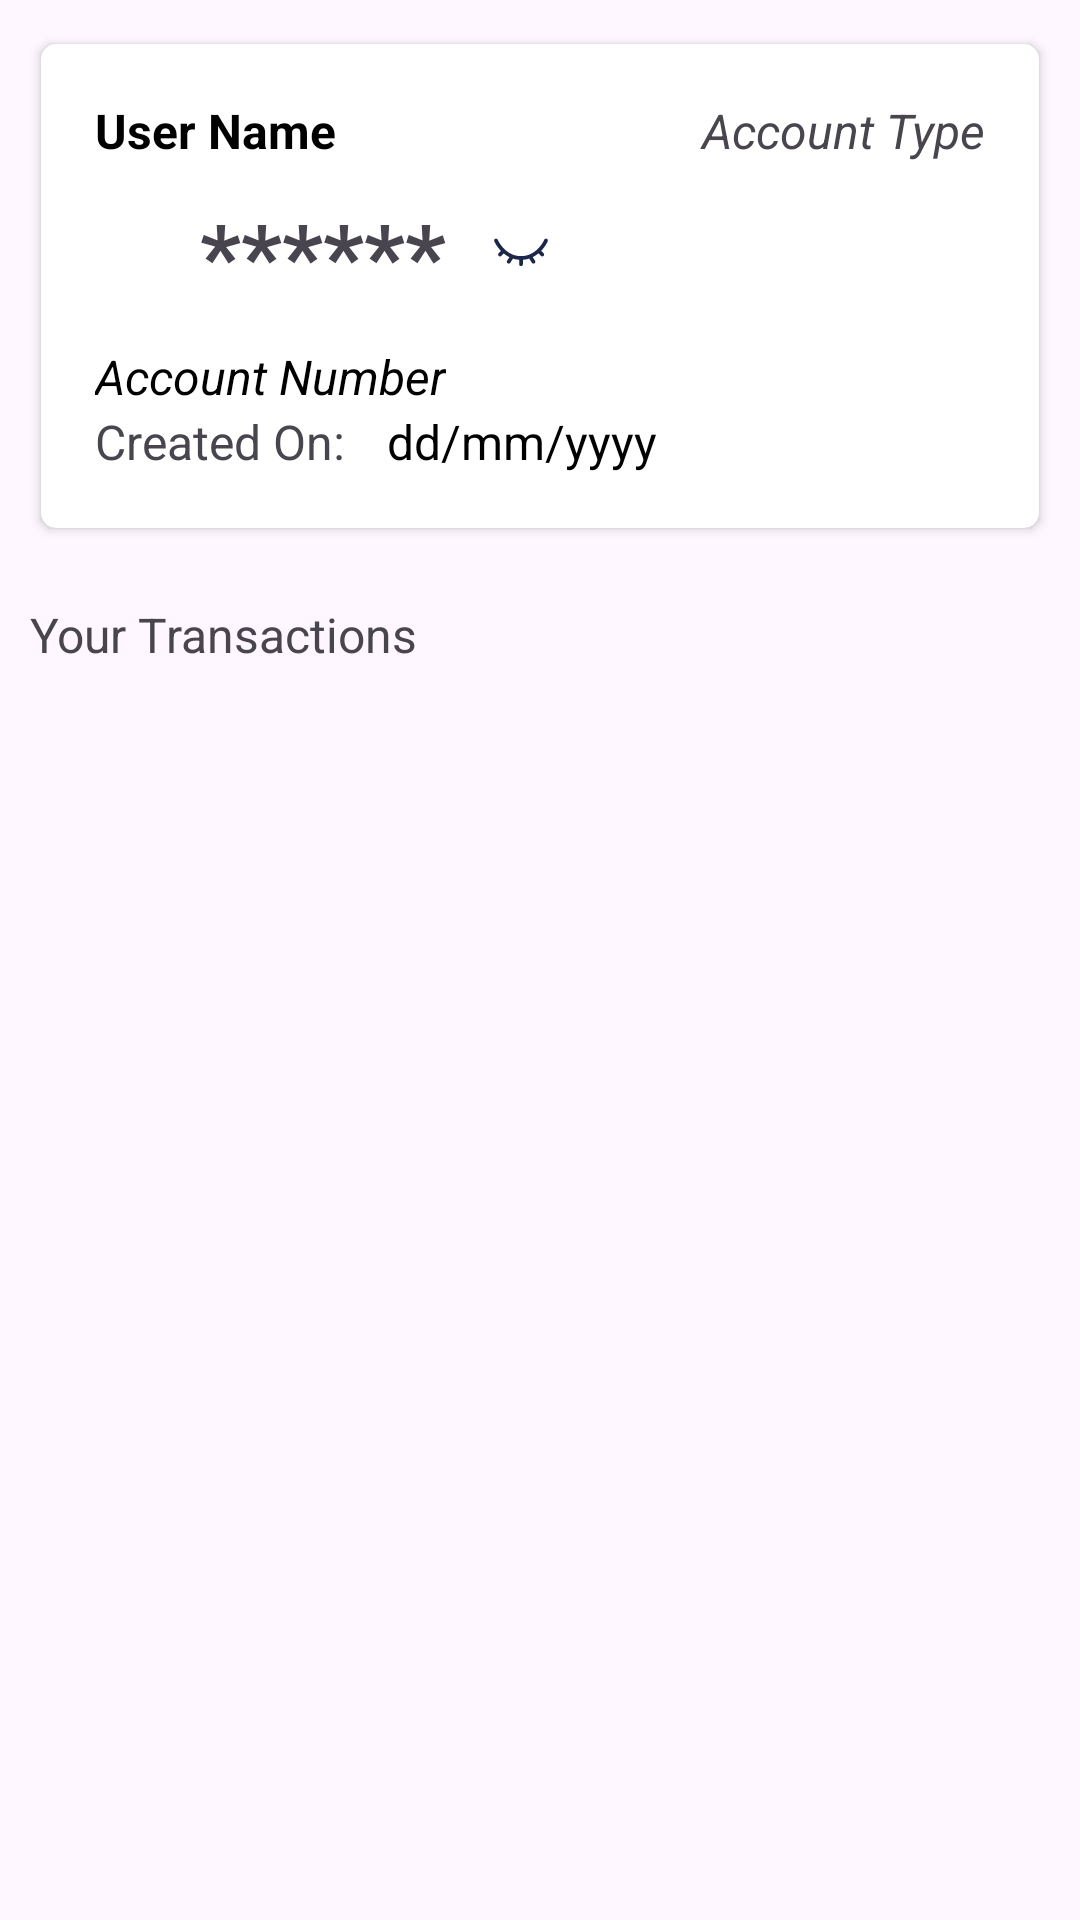

Icons on this 1080×1920 Android screen, each with the point to tap as (x=x, y=y):
eye closed: (x=521, y=252)
